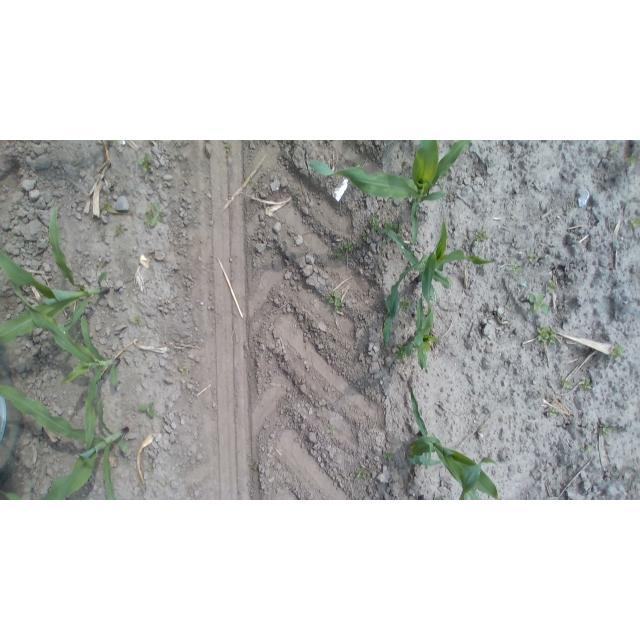Maize: (9, 278, 123, 453), (307, 141, 477, 246), (1, 202, 112, 346), (0, 384, 132, 500), (380, 224, 498, 352), (406, 387, 509, 500), (409, 297, 443, 376), (457, 456, 500, 500)
Weeds: (525, 290, 552, 317), (534, 324, 565, 346), (141, 203, 167, 229), (381, 218, 404, 247), (135, 149, 158, 173), (331, 240, 355, 260), (472, 224, 492, 245), (327, 291, 345, 313), (140, 401, 158, 419), (505, 261, 526, 276), (367, 213, 381, 235), (608, 341, 624, 359), (624, 150, 639, 168), (394, 341, 408, 359), (102, 199, 116, 217), (400, 295, 413, 314), (352, 468, 372, 480), (546, 278, 560, 294), (579, 377, 593, 393), (527, 251, 540, 267), (115, 222, 128, 238), (600, 424, 614, 438), (433, 492, 457, 500), (560, 377, 573, 391), (628, 216, 640, 231), (249, 460, 261, 475), (129, 315, 145, 326), (383, 452, 396, 465), (549, 407, 561, 420), (580, 443, 593, 455), (220, 141, 234, 151), (359, 230, 369, 243), (178, 364, 191, 374), (610, 142, 620, 154), (327, 426, 338, 436), (248, 177, 256, 189), (294, 200, 302, 211), (621, 402, 630, 411), (635, 481, 640, 492)
